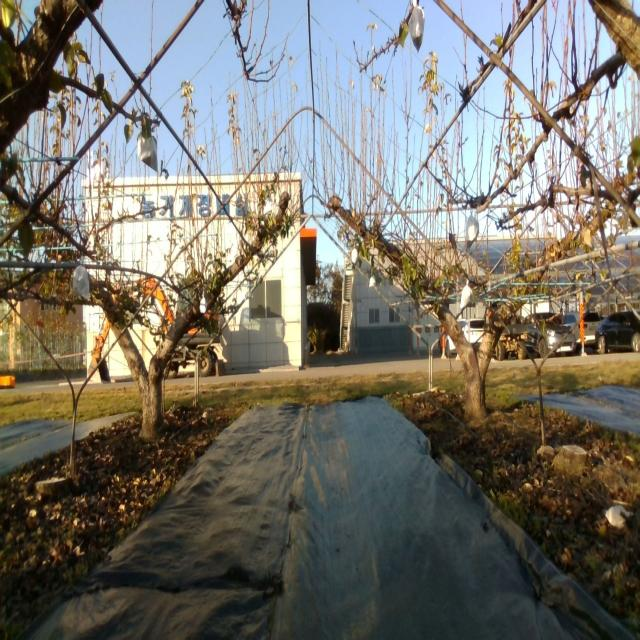pearbags: (408, 0, 425, 51), (137, 135, 159, 173), (71, 264, 91, 301), (465, 212, 480, 250), (460, 279, 474, 308)
